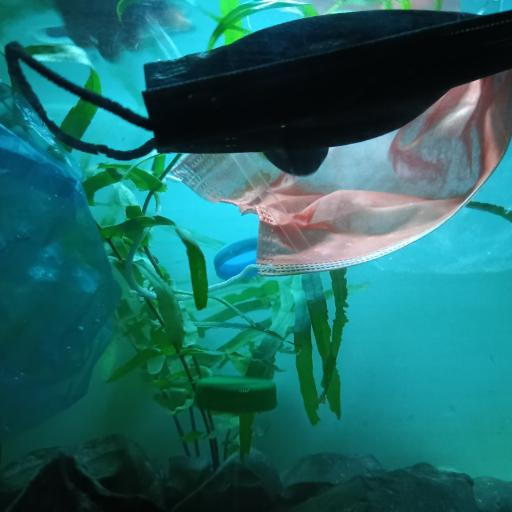bottle_cap: (196, 375, 276, 414), (214, 238, 257, 280)
mask: (122, 73, 512, 277), (4, 10, 512, 162)
plastic_bag: (0, 79, 125, 450)
plastic_straw: (154, 27, 310, 256)
